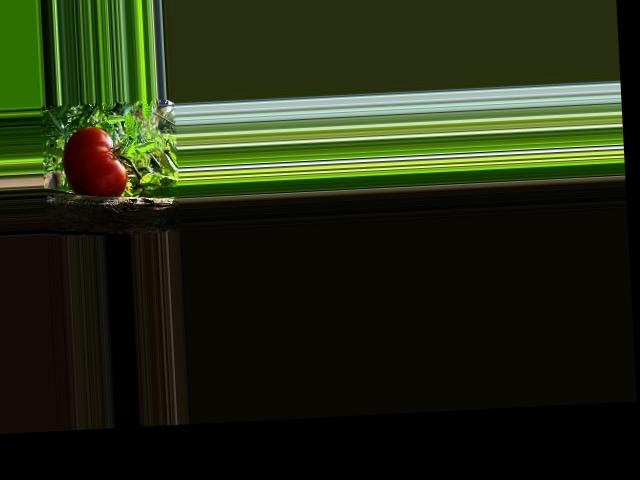tomato: (62, 124, 129, 199)
